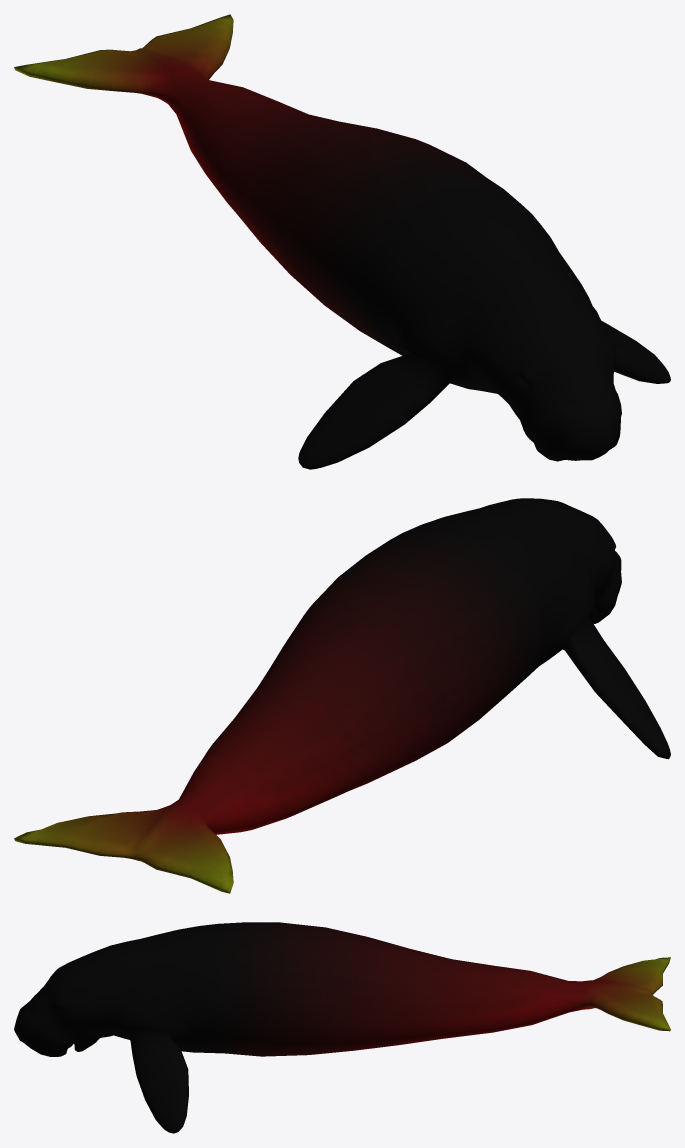
The picture shows the model from 3 angles, top to bottom: view 1: azimuth 30°, elevation 25°; view 2: azimuth 150°, elevation 25°; view 3: azimuth 270°, elevation 25°; orthographic projection. The views are drawn at different scales.
Parts seen in each view (by area): view 1: Dongon_Export (internal use only); view 2: Dongon_Export (internal use only); view 3: Dongon_Export (internal use only).
Part boxes in pixels (box(x1,y1,x2,y2)): Dongon_Export (internal use only): box(14, 14, 670, 469); Dongon_Export (internal use only): box(14, 498, 670, 893); Dongon_Export (internal use only): box(14, 922, 670, 1133).
Bounding box in the file's own units: 1.2 × 0.6533 × 2.72.
Materials: 1 (1 with a texture image).
